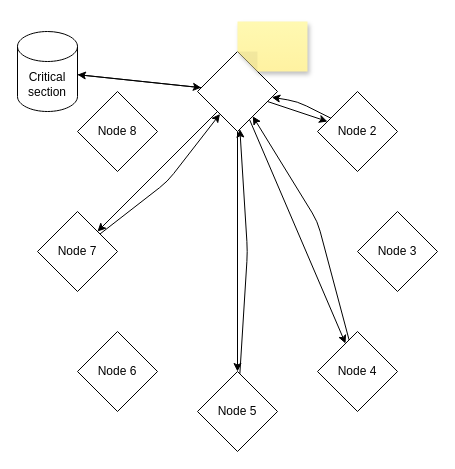
Image size: 455x469. Some labels were removed from this diagram. The shapes that lost their labels are listed below. From the top down, each one's centre as x and y in pixels, then its label:
At (273,47): "subset: {2,7,5,4}".
At (237,91): "Node 1".
